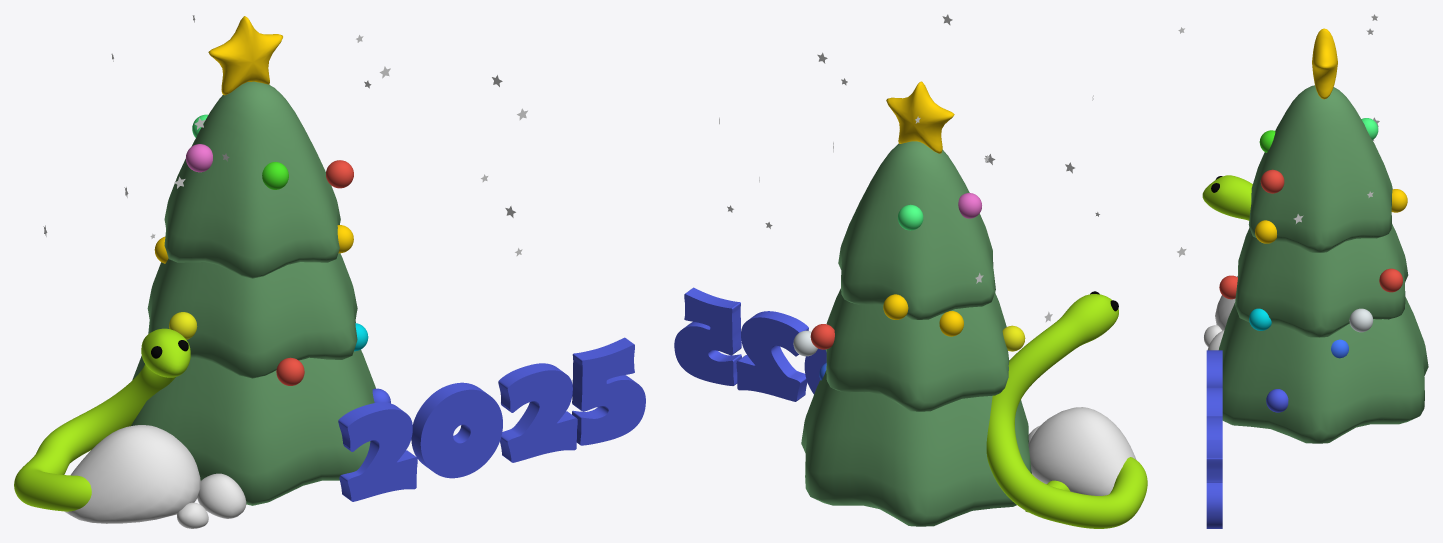
The picture shows the model from 3 angles, left to right: view 1: azimuth 30°, elevation 25°; view 2: azimuth 150°, elevation 25°; view 3: azimuth 270°, elevation 25°; orthographic projection. The views are drawn at different scales.
Visible parts, largest first — view 1: Text, Cylinder.005, Cylinder.001, Cylinder.006, Sphere.018, Zmeya, Zvezda; view 2: Cylinder.001, Cylinder.005, Cylinder.006, Zmeya, Text, Sphere.018, Zvezda; view 3: Cylinder.001, Cylinder.005, Cylinder.006, Text, Zmeya, Zvezda, Sphere.018, Sphere.014, Sphere.011, Sphere.013, Sphere, Sphere.005 (+3 smaller).
Boxes of the visible parts, x1,y1,x2,y2 form: Text: [338, 337, 645, 501]; Cylinder.005: [164, 81, 340, 278]; Cylinder.001: [131, 349, 375, 505]; Cylinder.006: [147, 253, 357, 378]; Sphere.018: [64, 425, 246, 528]; Zmeya: [14, 328, 190, 511]; Zvezda: [208, 16, 282, 95]; Cylinder.001: [801, 370, 1031, 526]; Cylinder.005: [838, 141, 995, 319]; Cylinder.006: [825, 288, 1009, 411]; Zmeya: [986, 291, 1147, 528]; Text: [674, 287, 826, 401]; Sphere.018: [1028, 407, 1136, 495]; Zvezda: [886, 81, 954, 153]; Cylinder.001: [1219, 297, 1428, 443]; Cylinder.005: [1248, 85, 1392, 252]; Cylinder.006: [1235, 224, 1408, 337]; Text: [1206, 350, 1222, 528]; Zmeya: [1202, 175, 1252, 220]; Zvezda: [1312, 28, 1337, 99]; Sphere.018: [1204, 276, 1237, 350]; Sphere.014: [1260, 169, 1284, 193]; Sphere.011: [1379, 268, 1402, 292]; Sphere.013: [1349, 308, 1373, 332]; Sphere: [1266, 389, 1288, 412]; Sphere.005: [1255, 220, 1276, 243].
Bounding box in the file's own units: 2.29 × 1.74 × 1.06.
